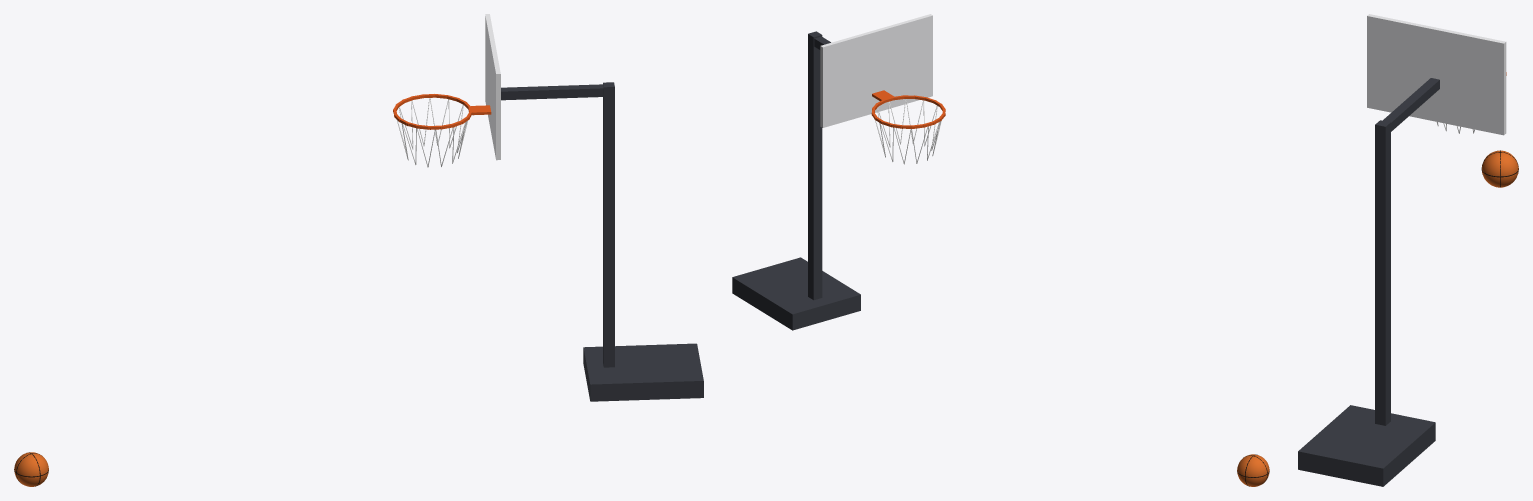
File: g1_16_basketball_props.glb
3 views of the same model, side by side, from view 1: azimuth 30°, elevation 25°; view 2: azimuth 150°, elevation 25°; view 3: azimuth 270°, elevation 25° (orthographic). The views are drawn at different scales.
Visible parts, largest first — view 1: s024, s023, s021, s022, o00_p00; view 2: s021, s024, s023, o00_p00; view 3: s021, s024, s023, o00_p00, s022.
Boxes of the visible parts, bbox=[...] form: s024: bbox=[583, 343, 703, 401]; s023: bbox=[603, 82, 614, 367]; s021: bbox=[485, 14, 500, 160]; s022: bbox=[501, 84, 603, 100]; o00_p00: bbox=[14, 452, 48, 486]; s021: bbox=[820, 14, 932, 127]; s024: bbox=[732, 257, 860, 330]; s023: bbox=[808, 31, 822, 300]; o00_p00: bbox=[1237, 454, 1269, 486]; s021: bbox=[1367, 14, 1506, 135]; s024: bbox=[1298, 405, 1435, 486]; s023: bbox=[1375, 120, 1390, 425]; o00_p00: bbox=[1482, 150, 1518, 187]; s022: bbox=[1383, 78, 1439, 131].
Bounding box in the file's own units: 4.57 × 2.5 × 1.31.
